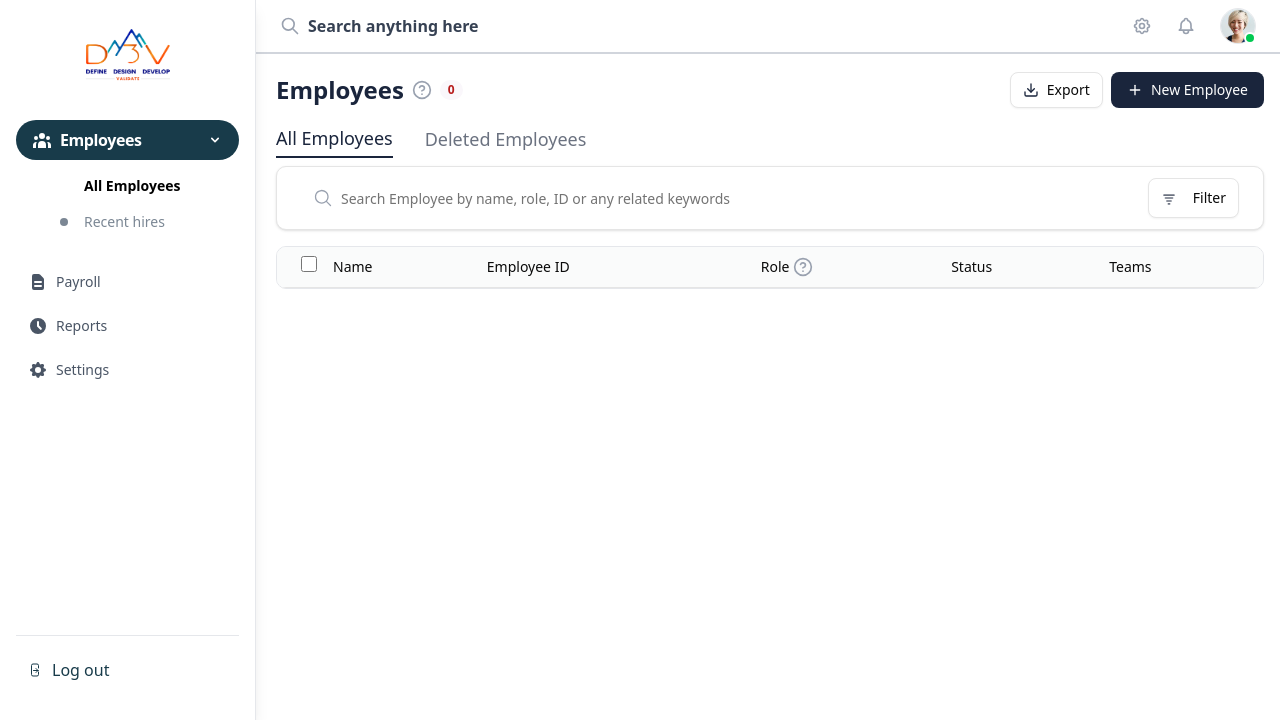
Test case: Dashboard E2E Tests › should open create employee modal
Step 1. Click the button "New Employee" → click(1188, 90), box [1111,72,1264,108]
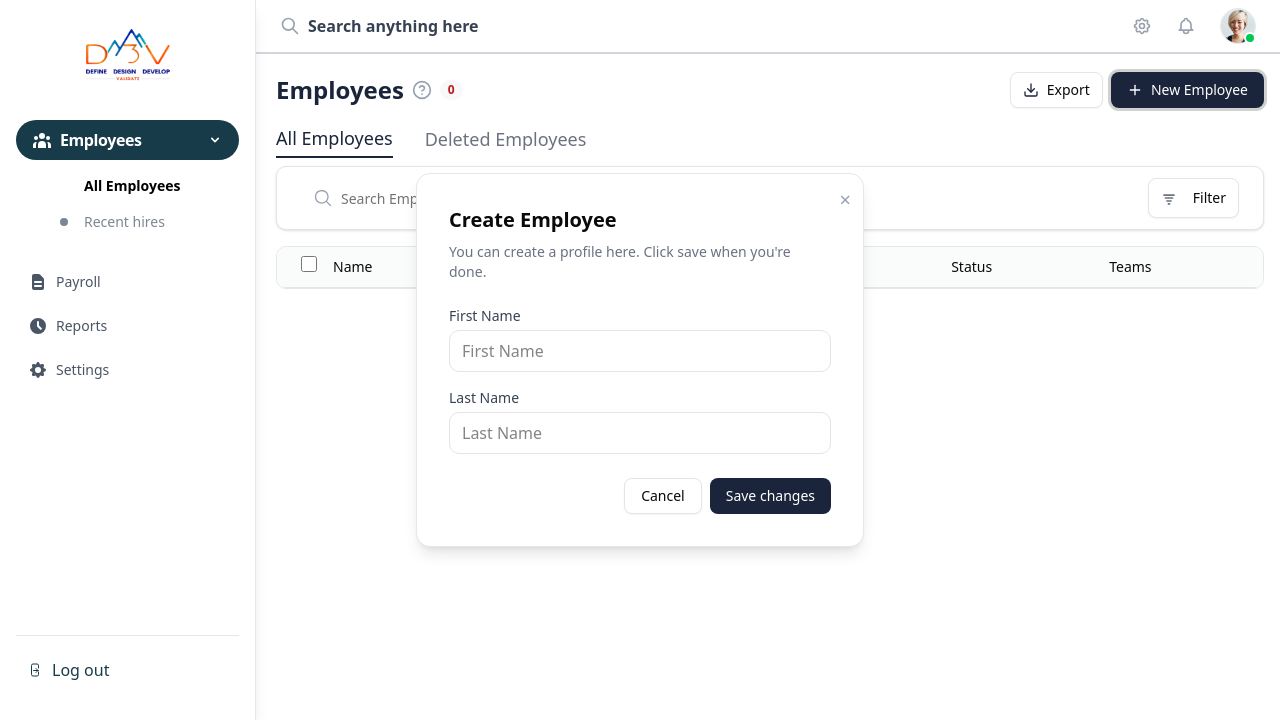
Check: the heading "Create Employee" is shown, box [449,206,617,233]
Check: the field with placeholder "First Name" is shown, box [449,330,831,372]
Check: the field with placeholder "Last Name" is shown, box [449,412,831,454]
Step 2. Click the button "Cancel" → click(663, 496), box [624,478,702,514]
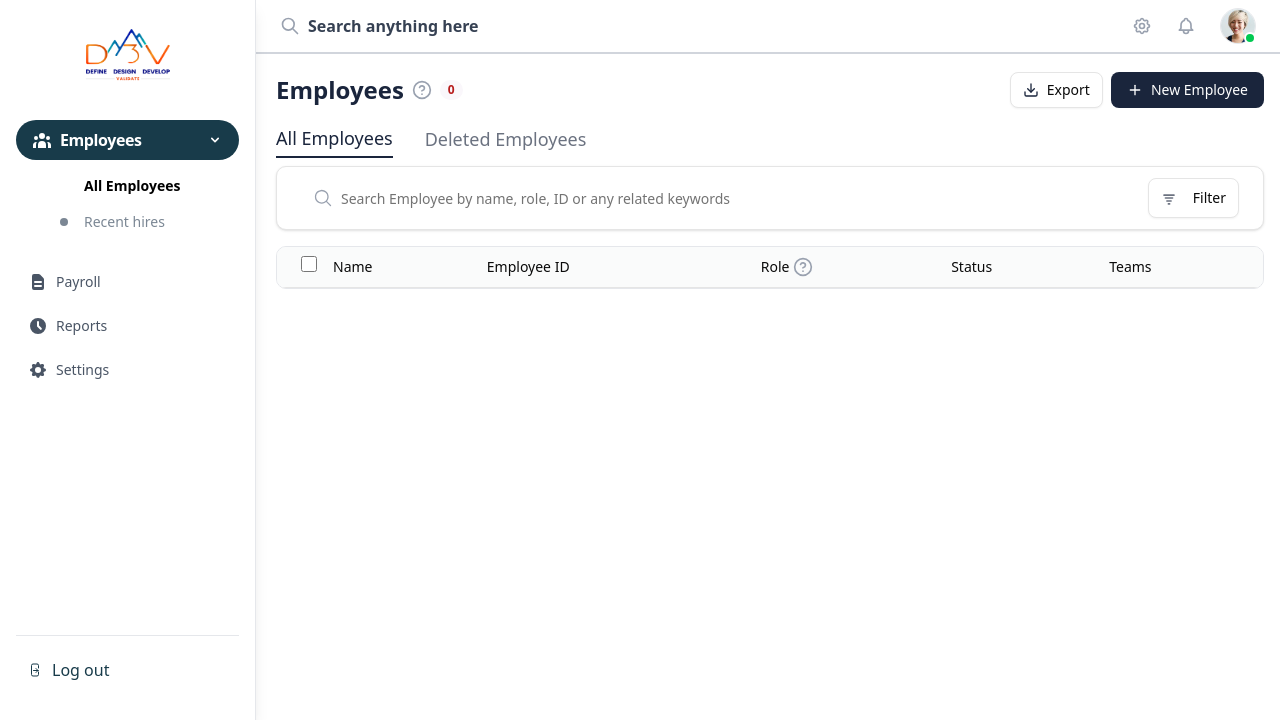
Check: the heading "Create Employee" is gone
